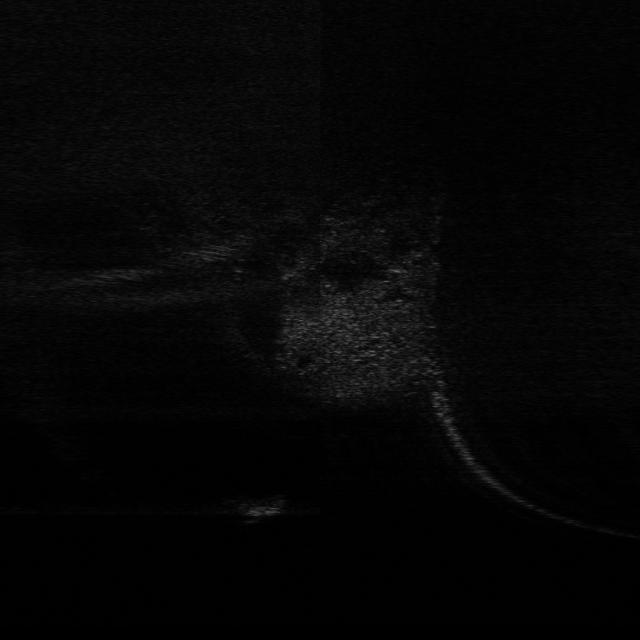cube: (232, 492, 288, 517)
